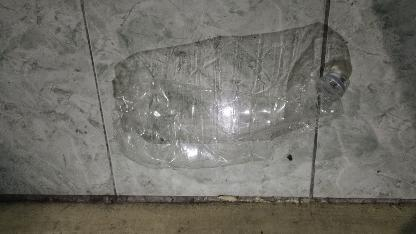Plastic Bottle: (112, 70, 352, 170)
